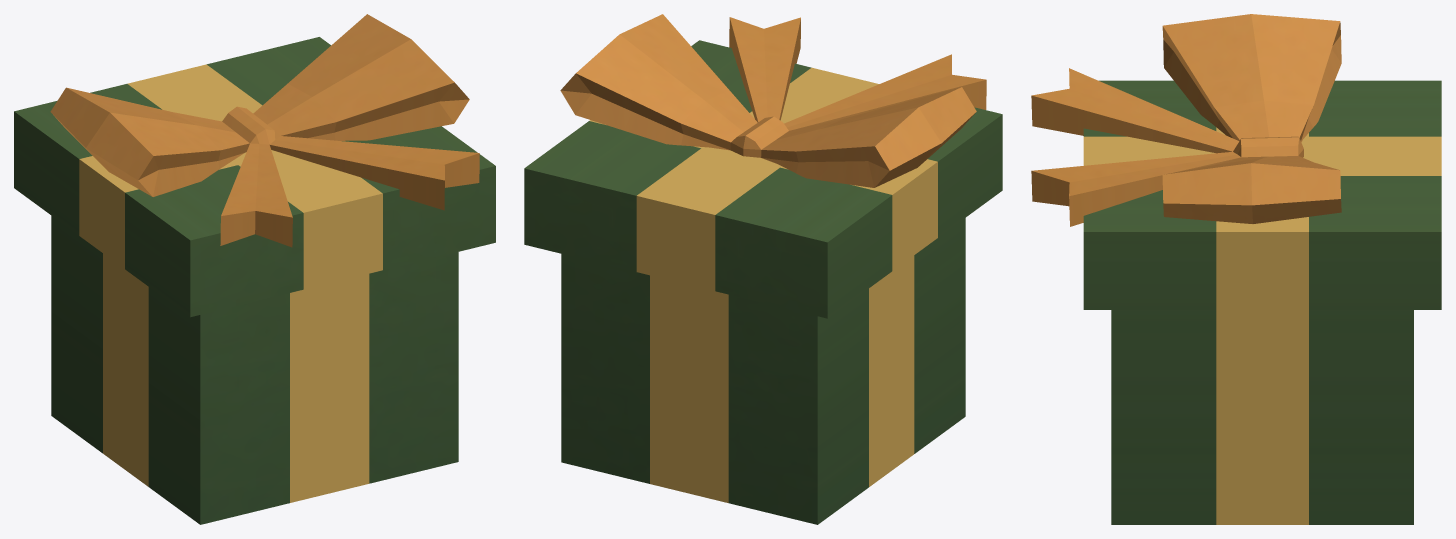
Rendered from gift_box_B_Small.obj.
The picture shows the model from 3 angles, left to right: view 1: azimuth 30°, elevation 25°; view 2: azimuth 150°, elevation 25°; view 3: azimuth 270°, elevation 25°; orthographic projection. The views are drawn at different scales.
Parts seen in each view (by area): view 1: gift_box_B_Small; view 2: gift_box_B_Small; view 3: gift_box_B_Small.
Part boxes in pixels (left/top/right/bottom): gift_box_B_Small: left=14, top=14, right=495, bottom=524; gift_box_B_Small: left=524, top=14, right=1002, bottom=524; gift_box_B_Small: left=1031, top=14, right=1441, bottom=524.
Bounding box in the file's own units: 0.4318 × 0.4346 × 0.4337.
